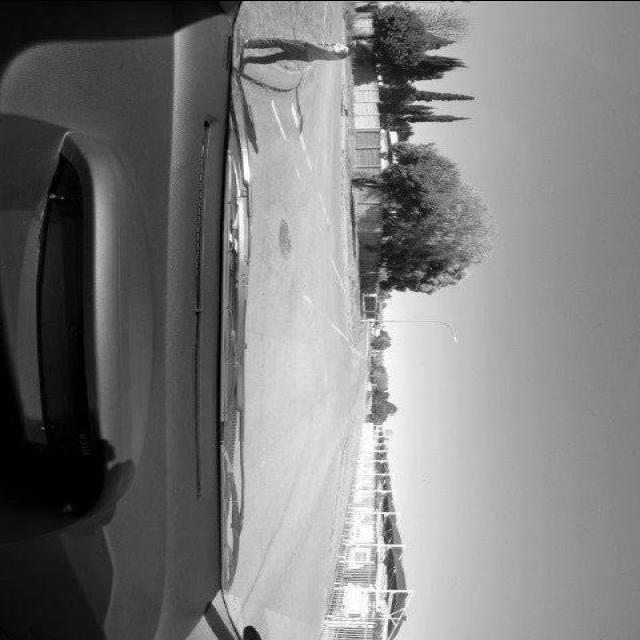lubang: (274, 215, 296, 265)
